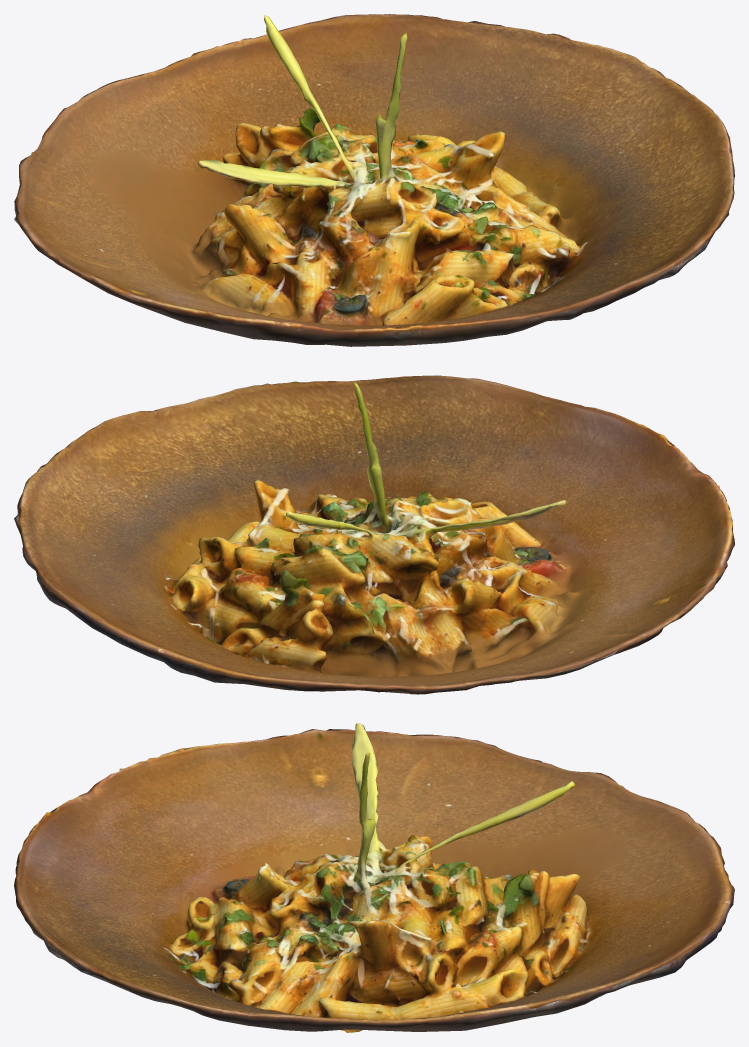
File: penne-a-l-arrabiata.ar.glb
3 renders of one model, top to bottom at view 1: azimuth 30°, elevation 25°; view 2: azimuth 150°, elevation 25°; view 3: azimuth 270°, elevation 25°, orthographic. The views are drawn at different scales.
Visible parts, largest first — view 1: /ObjectCapture/Geometry/Mesh; view 2: /ObjectCapture/Geometry/Mesh; view 3: /ObjectCapture/Geometry/Mesh.
Boxes of the visible parts, x1,y1,x2,y2 form: /ObjectCapture/Geometry/Mesh: (14,14,734,346); /ObjectCapture/Geometry/Mesh: (14,375,734,694); /ObjectCapture/Geometry/Mesh: (14,723,734,1032).
Size of the model in its own units: 0.2737 by 0.1012 by 0.2722.
1 material, 1 textured.
